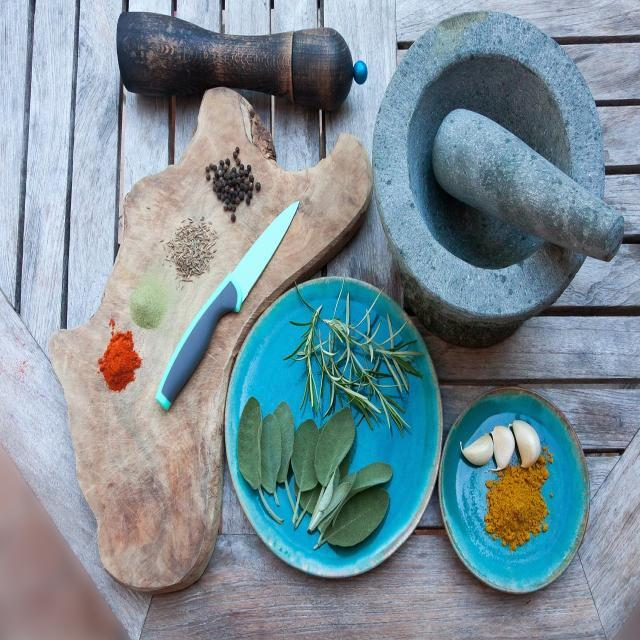Knife: (156, 201, 299, 409)
